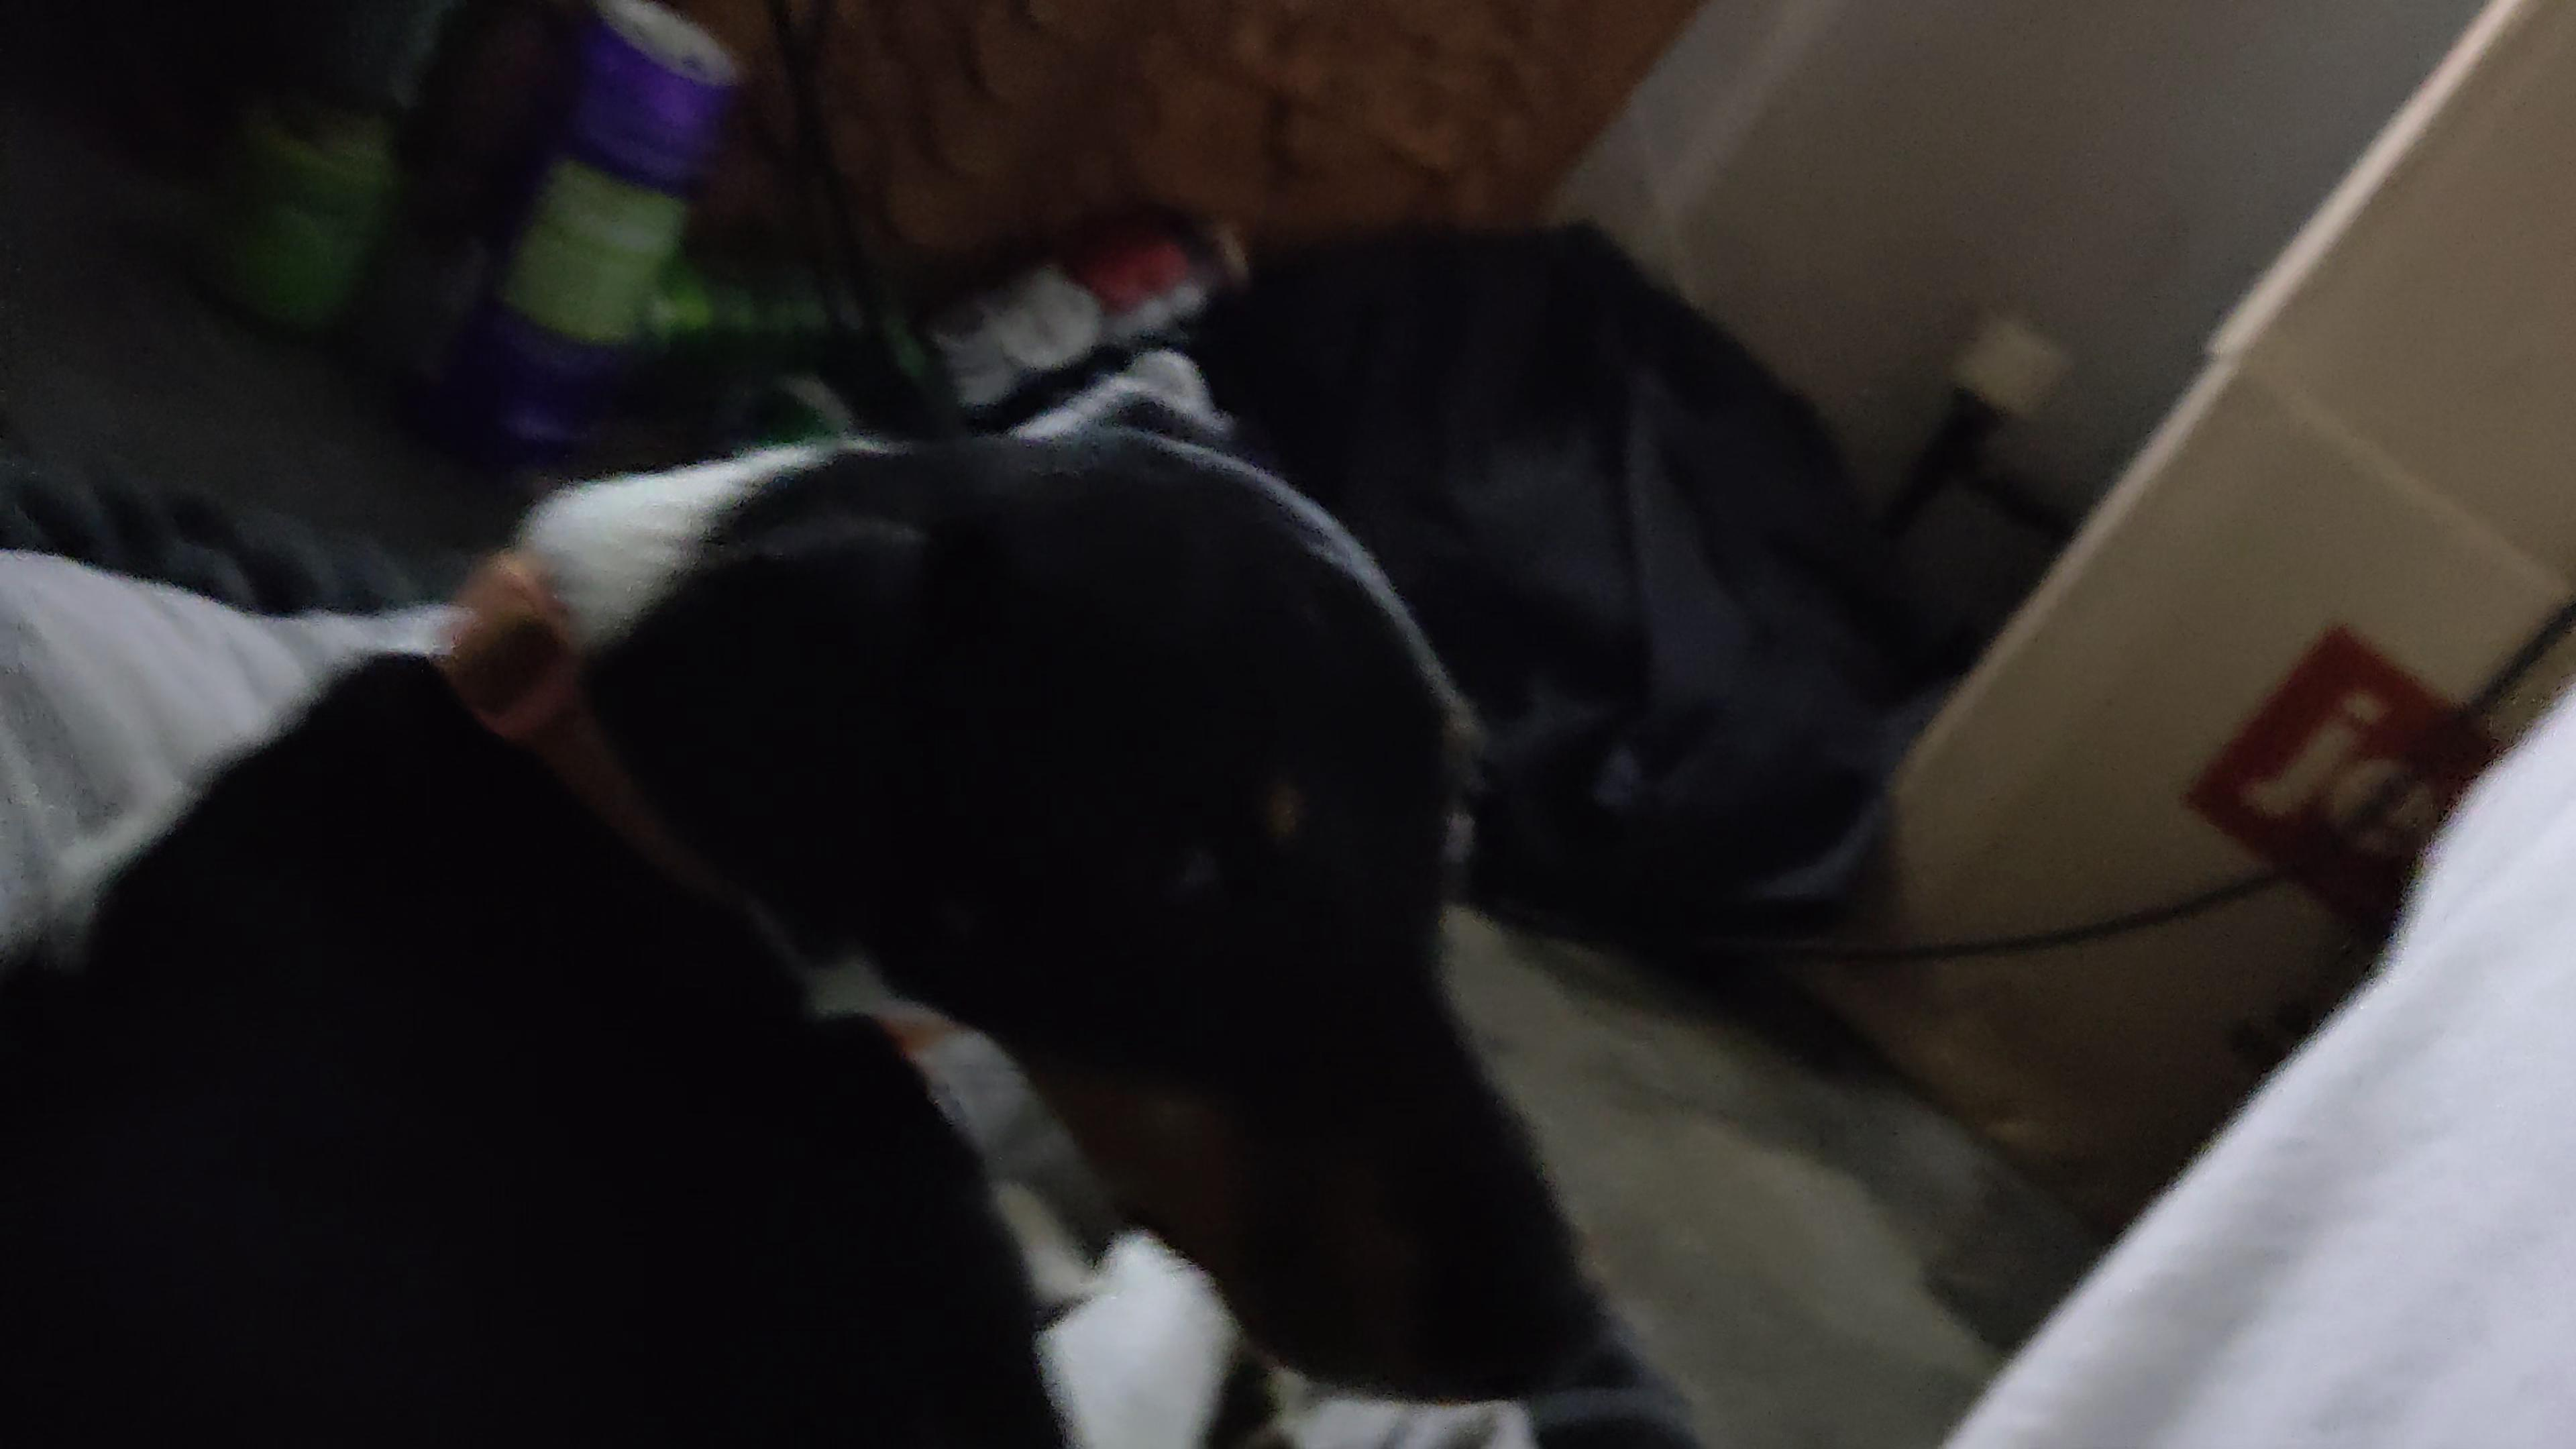Dog: (0, 382, 1621, 1449)
